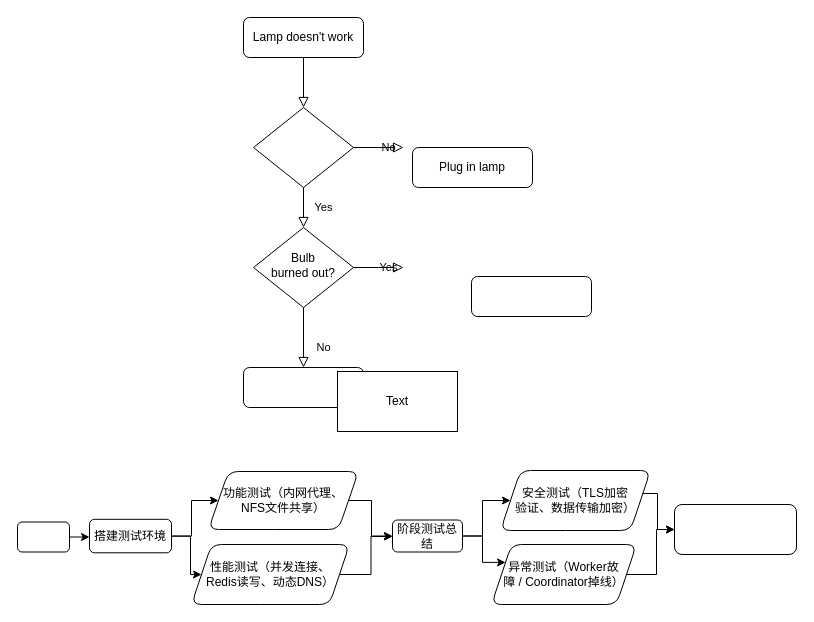
The diagram is 814 pixels wide and 622 high, and some of its shapes have lost their labels. Each missing label, with the centre of its shape:
"Lamp plugged in?" belongs at (303,147).
"Repair Lamp" belongs at (303,387).
"Replace Bulb" belongs at (531,296).
"开始" belongs at (43,536).
"生成测试报告（包含图表、日志、异常分析）" belongs at (735,529).
